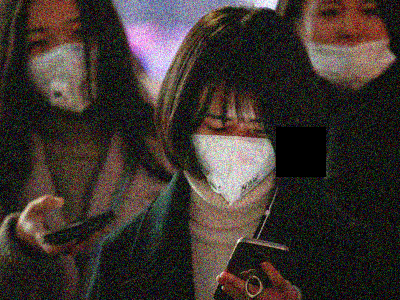mask_weared_incorrect: (298, 2, 398, 91)
with_mask: (188, 100, 283, 204), (21, 12, 103, 114)
